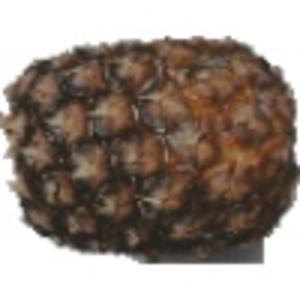abacaxi: (2, 32, 296, 252)
